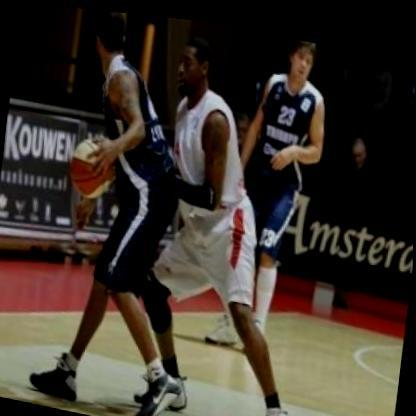basketball: (60, 127, 122, 204)
